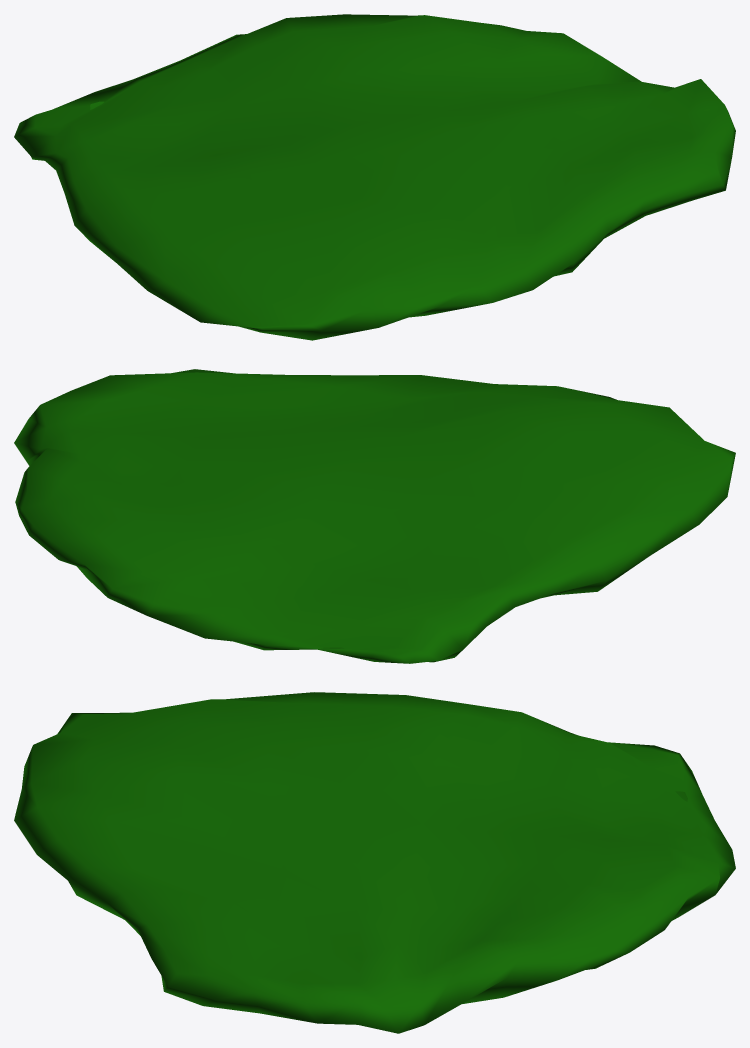
The model's file is  moss.fbx.
The picture shows the model from 3 angles, top to bottom: view 1: azimuth 30°, elevation 25°; view 2: azimuth 150°, elevation 25°; view 3: azimuth 270°, elevation 25°; orthographic projection. The views are drawn at different scales.
Parts seen in each view (by area): view 1: Plane.001; view 2: Plane.001; view 3: Plane.001.
Part boxes in pixels (x1=…): Plane.001: x1=14, y1=14, x2=735, y2=340; Plane.001: x1=14, y1=369, x2=735, y2=663; Plane.001: x1=14, y1=692, x2=735, y2=1033.
Size of the model in its own units: 284 by 26.15 by 269.
